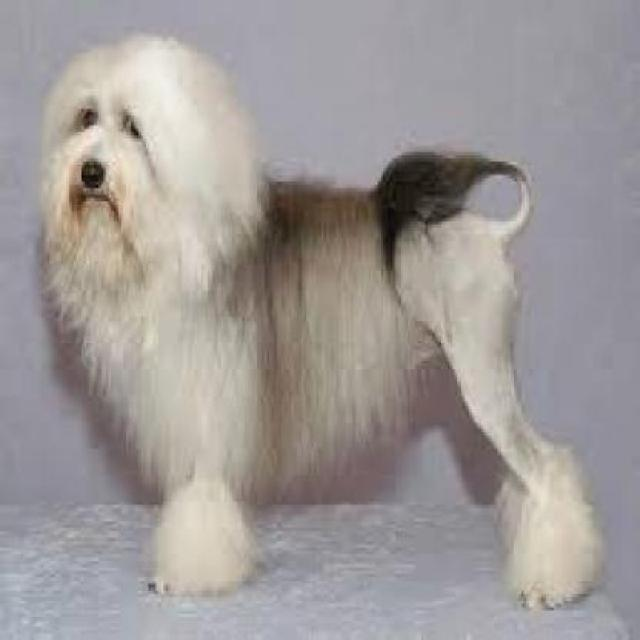animals: (23, 33, 602, 612)
